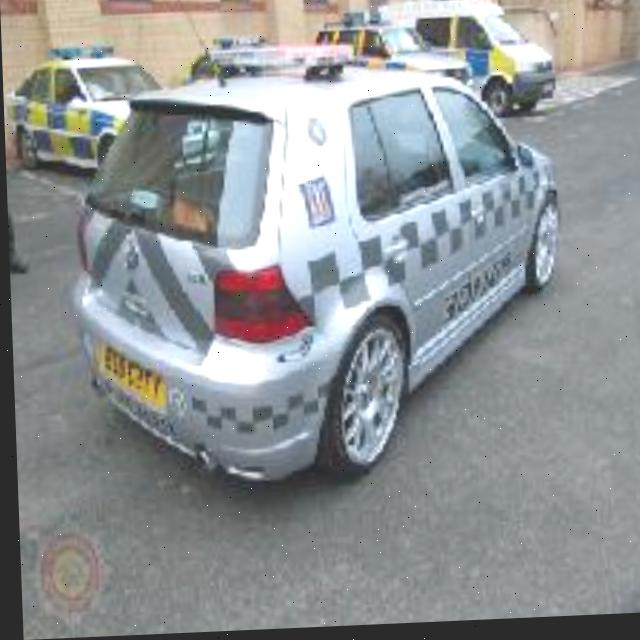emergency: (299, 0, 563, 130), (1, 39, 153, 182)
